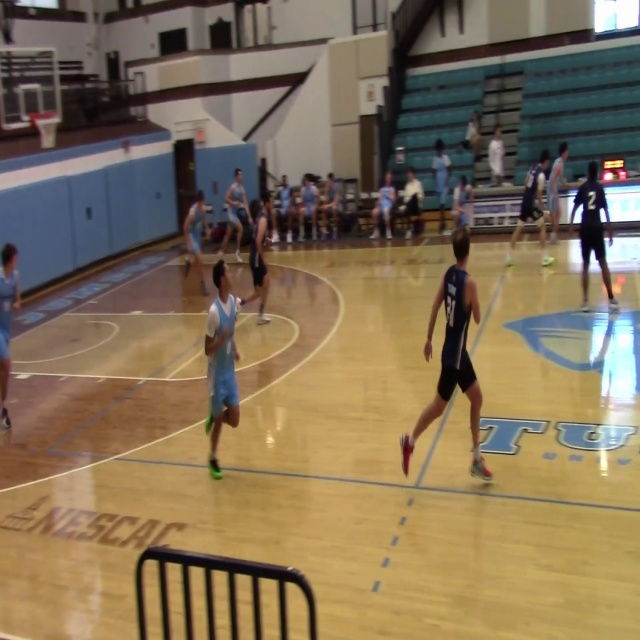Basketball: (603, 171, 614, 182)
